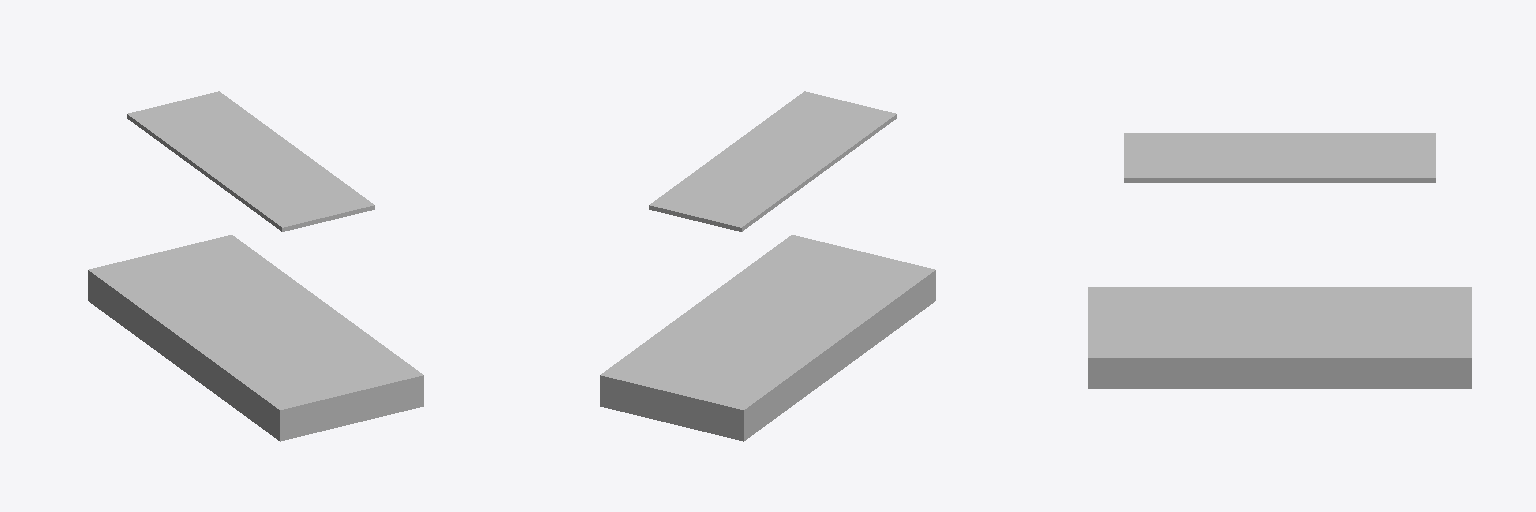
The model's file is ospol.obj.
3 views of the same model, side by side, from view 1: azimuth 30°, elevation 25°; view 2: azimuth 150°, elevation 25°; view 3: azimuth 270°, elevation 25° (orthographic).
Visible parts, largest first — view 1: Cube_Cube.000, Cube.006; view 2: Cube_Cube.000, Cube.006; view 3: Cube_Cube.000, Cube.006.
Boxes of the visible parts, x1,y1,x2,y2 form: Cube_Cube.000: [88, 235, 423, 441]; Cube.006: [127, 91, 374, 231]; Cube_Cube.000: [600, 235, 935, 441]; Cube.006: [649, 91, 896, 231]; Cube_Cube.000: [1088, 287, 1471, 388]; Cube.006: [1124, 133, 1435, 182].
Bounding box in the file's own units: 0.8662 × 1.12 × 2.